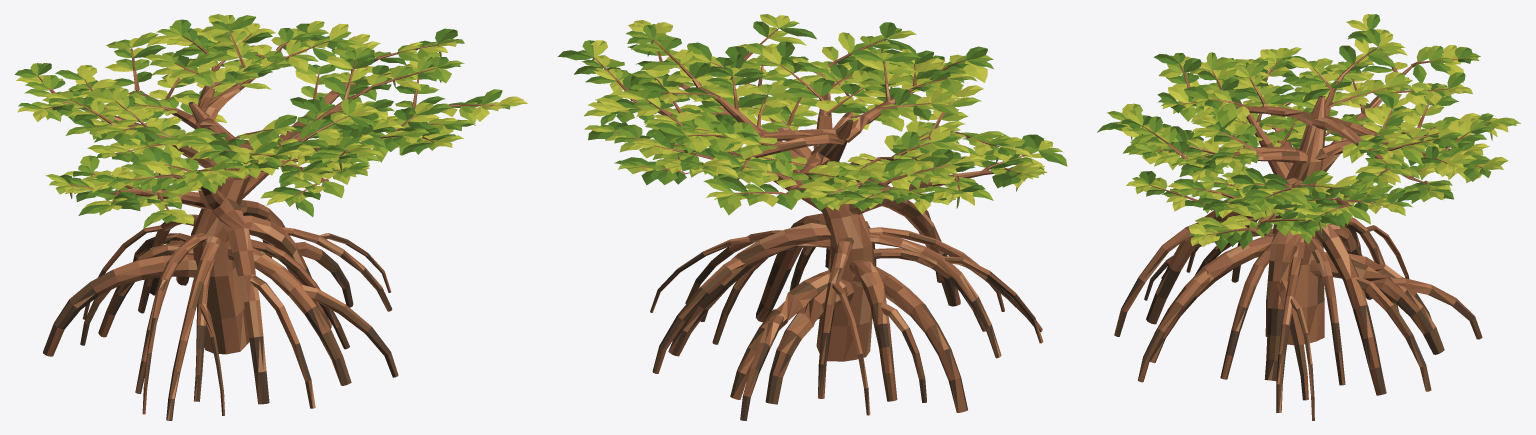
The model's file is mangrove-v2.glb.
3 renders of one model, left to right at view 1: azimuth 30°, elevation 25°; view 2: azimuth 150°, elevation 25°; view 3: azimuth 270°, elevation 25°, orthographic. The views are drawn at different scales.
Visible parts, largest first — view 1: Folded broad leaves, Trunk branches and stilt roots; view 2: Folded broad leaves, Trunk branches and stilt roots; view 3: Folded broad leaves, Trunk branches and stilt roots.
Boxes of the visible parts, x1,y1,x2,y2 form: Folded broad leaves: (14, 14, 527, 228); Trunk branches and stilt roots: (37, 31, 496, 420); Folded broad leaves: (558, 14, 1067, 215); Trunk branches and stilt roots: (594, 28, 1043, 420); Folded broad leaves: (1097, 14, 1520, 251); Trunk branches and stilt roots: (1114, 47, 1490, 420).
Bounding box in the file's own units: 6.97 × 3.92 × 5.99.
